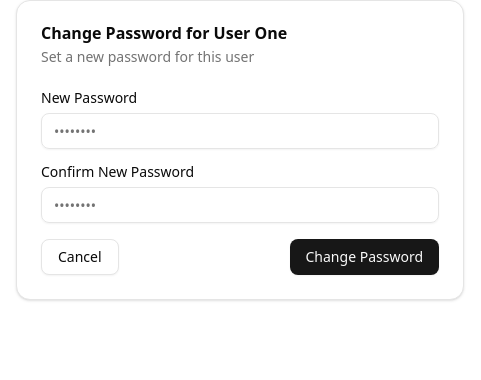
Test: ChangeUserPassword › shows error if API fails
The width and height of the screenshot is (481, 380).
In the password field labelled "New Password": coordinates (240, 131) [41, 113, 439, 149], type "Password1"
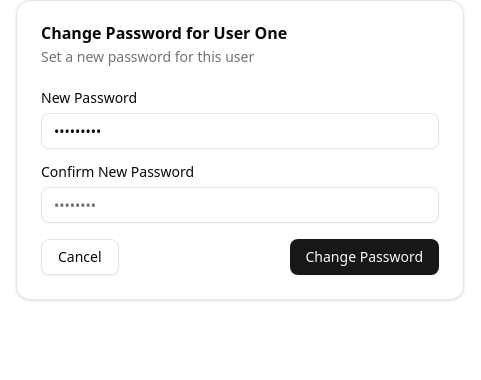
In the password field labelled "Confirm New Password": coordinates (240, 205) [41, 187, 439, 223], type "Password1"
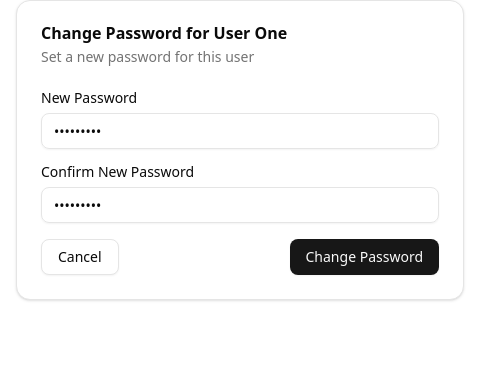
Click the button "Change Password": coordinates (364, 257) [290, 239, 439, 275]
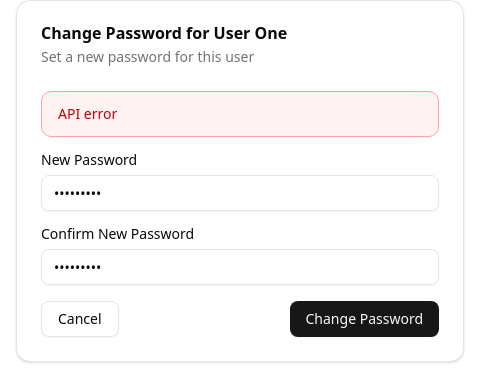
Check: the text "API error" is shown, box [58, 104, 117, 123]
